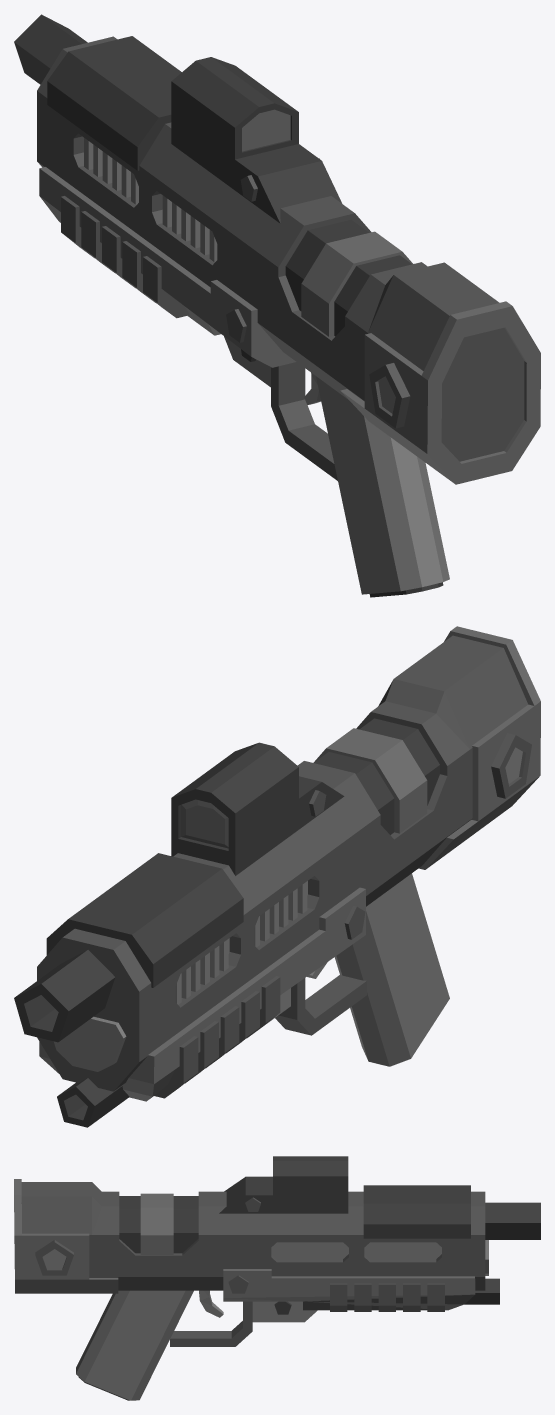
The model's file is fusil_4.glb.
3 views of the same model, one above another, from view 1: azimuth 30°, elevation 25°; view 2: azimuth 150°, elevation 25°; view 3: azimuth 270°, elevation 25° (orthographic). The views are drawn at different scales.
Visible parts, largest first — view 1: fusil_4, fusil_scope_4, fusil_charguer_4; view 2: fusil_4, fusil_scope_4, fusil_charguer_4; view 3: fusil_4, fusil_charguer_4, fusil_scope_4.
Part boxes in pixels (x1,y1,x2,y2): fusil_4: (14,14,540,597); fusil_scope_4: (171,57,341,223); fusil_charguer_4: (39,167,296,367); fusil_4: (14,626,540,1127); fusil_scope_4: (171,742,344,875); fusil_charguer_4: (39,887,365,1101); fusil_4: (14,1179,540,1400); fusil_charguer_4: (223,1269,475,1311); fusil_scope_4: (219,1156,348,1213).
Size of the model in its own units: 0.4253 by 1.26 by 2.51.
Materials: 1 (1 with a texture image).
